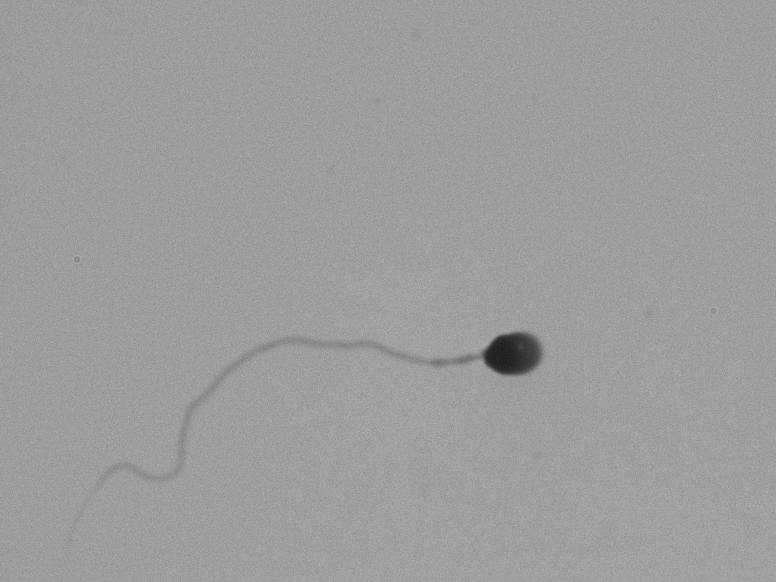Normal: (99, 281, 614, 515)
